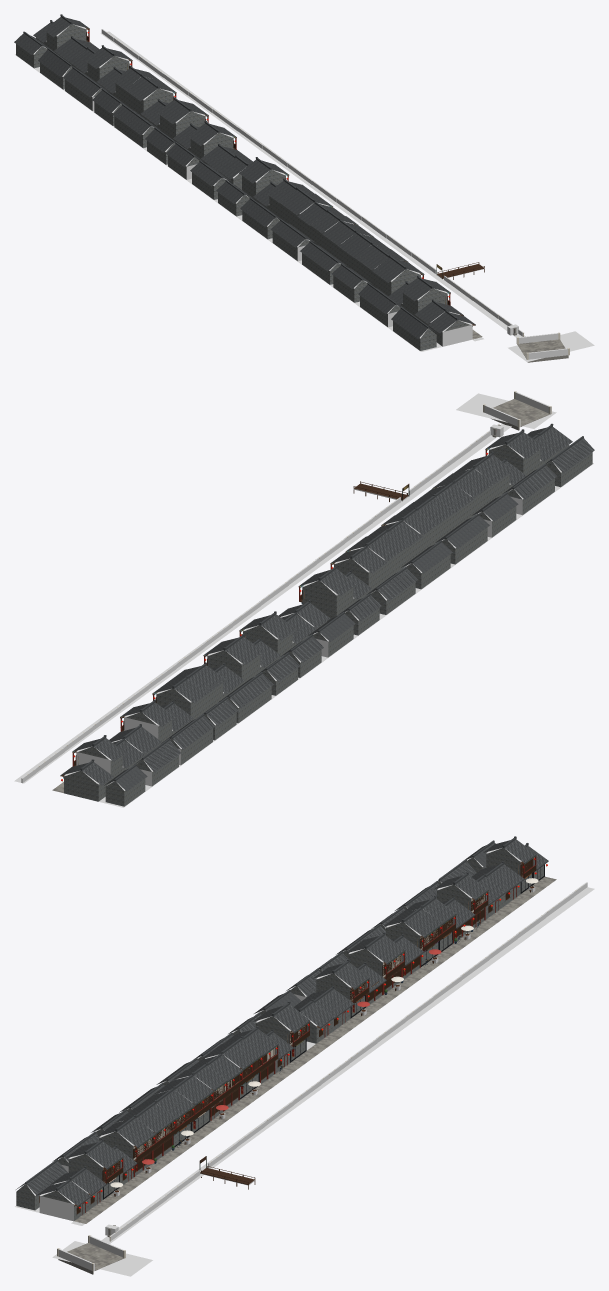
The model's file is houhai.glb.
3 views of the same model, one above another, from view 1: azimuth 30°, elevation 25°; view 2: azimuth 150°, elevation 25°; view 3: azimuth 330°, elevation 25° (orthographic). The views are drawn at different scales.
Visible parts, largest first — view 1: Massing, Lane, CLEAR_hh_shore, FOOTPRINT_hh_bars, CLEAR_hh_bridge, COL_lot0; view 2: Massing, Lane, CLEAR_hh_shore, CLEAR_hh_bridge, FOOTPRINT_hh_bars; view 3: Lane, Massing, CLEAR_hh_shore, CLEAR_hh_bridge, COL_lot0.
Boxes of the visible parts, x1,y1,x2,y2 form: Massing: [16, 17, 474, 350]; Lane: [14, 14, 569, 362]; CLEAR_hh_shore: [100, 31, 525, 337]; FOOTPRINT_hh_bars: [15, 54, 442, 351]; CLEAR_hh_bridge: [508, 331, 594, 361]; COL_lot0: [442, 320, 472, 346]; Massing: [61, 427, 592, 806]; Lane: [52, 391, 594, 792]; CLEAR_hh_shore: [14, 424, 511, 783]; CLEAR_hh_bridge: [456, 393, 556, 428]; FOOTPRINT_hh_bars: [99, 463, 593, 807]; Lane: [16, 836, 556, 1274]; Massing: [16, 840, 547, 1214]; CLEAR_hh_shore: [101, 887, 594, 1243]; CLEAR_hh_bridge: [52, 1241, 152, 1276]; COL_lot0: [39, 1190, 74, 1221].
Bounding box in the file's own units: 32.7 × 9.59 × 183.
35 materials, 15 textured.
